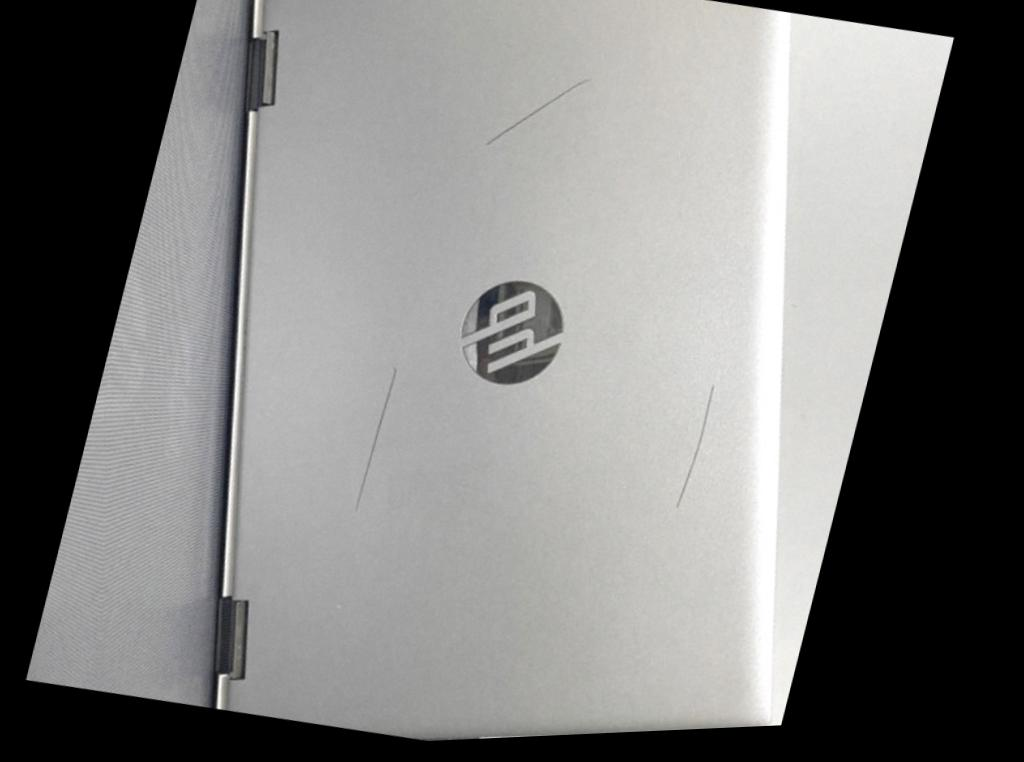scratch: (487, 84, 592, 151), (360, 371, 402, 518), (682, 393, 719, 514)
